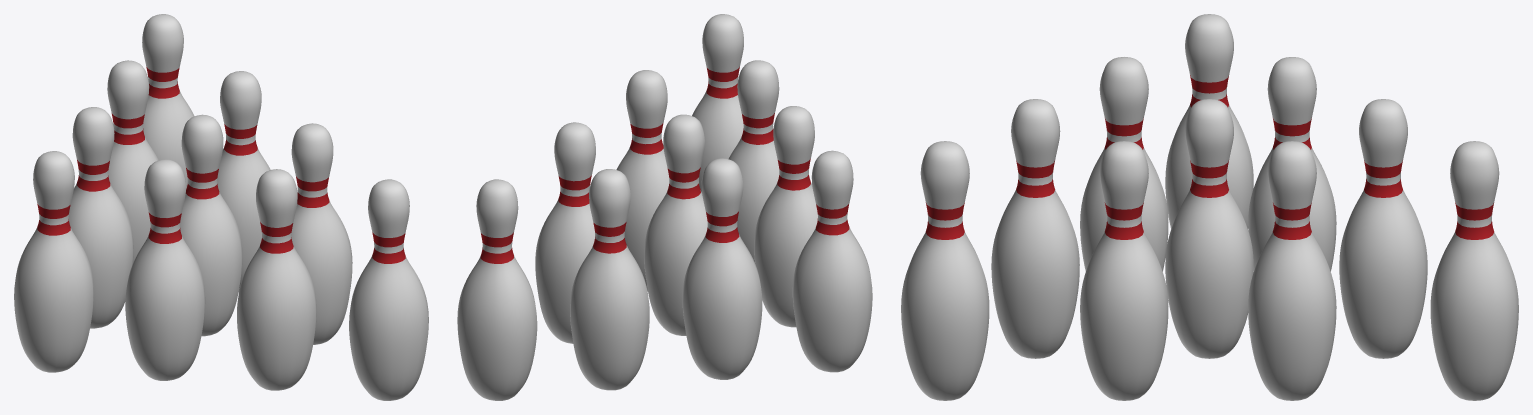
The model's file is pin.gltf.
The picture shows the model from 3 angles, left to right: view 1: azimuth 30°, elevation 25°; view 2: azimuth 150°, elevation 25°; view 3: azimuth 270°, elevation 25°; orthographic projection. The views are drawn at different scales.
Visible parts, largest first — view 1: Cube.001_4, Cube.004_7, Cube_0, Cube.007_10, Cube.010_3, Cube.002_5, Cube.006_9, Cube.005_8, Cube.003_6, Cube.008_11; view 2: Cube.010_3, Cube_0, Cube.008_11, Cube.003_6, Cube.002_5, Cube.001_4, Cube.005_8, Cube.006_9, Cube.004_7, Cube.007_10; view 3: Cube.007_10, Cube.008_11, Cube.006_9, Cube.005_8, Cube.003_6, Cube.004_7, Cube.002_5, Cube.001_4, Cube_0, Cube.010_3.
Part boxes in pixels (x1=…): Cube.001_4: x1=125, y1=159, x2=205, y2=380; Cube.004_7: x1=237, y1=169, x2=316, y2=390; Cube_0: x1=14, y1=151, x2=93, y2=372; Cube.007_10: x1=349, y1=179, x2=428, y2=400; Cube.010_3: x1=68, y1=107, x2=133, y2=328; Cube.002_5: x1=180, y1=114, x2=242, y2=336; Cube.006_9: x1=291, y1=123, x2=352, y2=344; Cube.005_8: x1=217, y1=71, x2=270, y2=292; Cube.003_6: x1=107, y1=60, x2=158, y2=263; Cube.008_11: x1=142, y1=14, x2=194, y2=189; Cube.010_3: x1=682, y1=158, x2=762, y2=379; Cube_0: x1=792, y1=150, x2=872, y2=372; Cube.008_11: x1=457, y1=179, x2=537, y2=400; Cube.003_6: x1=570, y1=169, x2=649, y2=390; Cube.002_5: x1=644, y1=114, x2=707, y2=335; Cube.001_4: x1=754, y1=106, x2=817, y2=327; Cube.005_8: x1=535, y1=122, x2=595, y2=343; Cube.006_9: x1=616, y1=70, x2=669, y2=291; Cube.004_7: x1=728, y1=60, x2=779, y2=263; Cube.007_10: x1=692, y1=14, x2=743, y2=192; Cube.007_10: x1=901, y1=141, x2=989, y2=400; Cube.008_11: x1=1430, y1=141, x2=1518, y2=400; Cube.006_9: x1=1080, y1=141, x2=1168, y2=400; Cube.005_8: x1=1248, y1=141, x2=1336, y2=400; Cube.003_6: x1=1339, y1=99, x2=1427, y2=358; Cube.004_7: x1=991, y1=99, x2=1079, y2=358; Cube.002_5: x1=1165, y1=99, x2=1253, y2=358; Cube.001_4: x1=1080, y1=57, x2=1168, y2=271; Cube_0: x1=1165, y1=14, x2=1253, y2=228; Cube.010_3: x1=1248, y1=57, x2=1336, y2=271.
Bounding box in the file's own units: 15.13 × 10.62 × 23.68.
